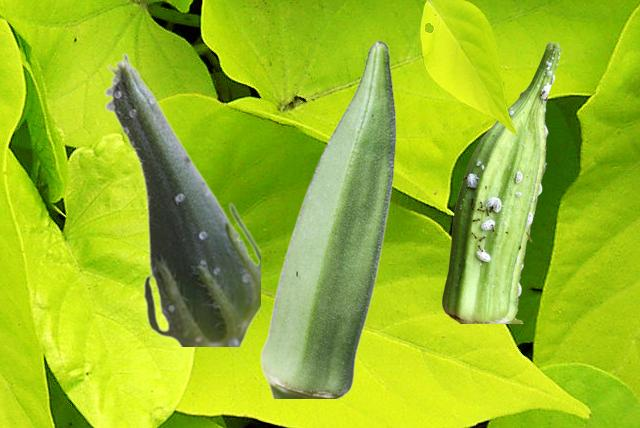okra: (260, 40, 395, 397), (103, 52, 259, 345), (442, 42, 560, 322)
